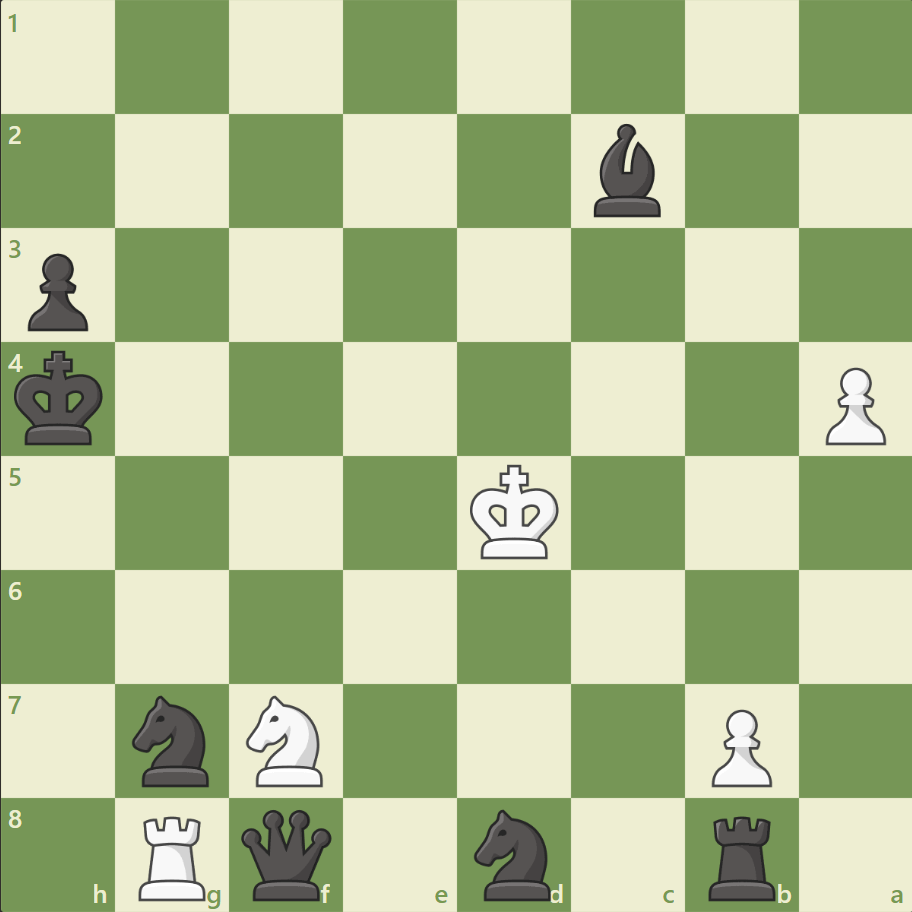K: (465, 458, 565, 566)
N: (238, 688, 335, 791)
P: (701, 700, 776, 791), (815, 359, 889, 450)
R: (133, 806, 215, 904)
b: (585, 120, 669, 222)
k: (11, 344, 111, 452)
n: (124, 688, 222, 791), (465, 802, 562, 904)
p: (20, 246, 95, 337)
q: (237, 804, 336, 903)
r: (700, 806, 783, 904)
